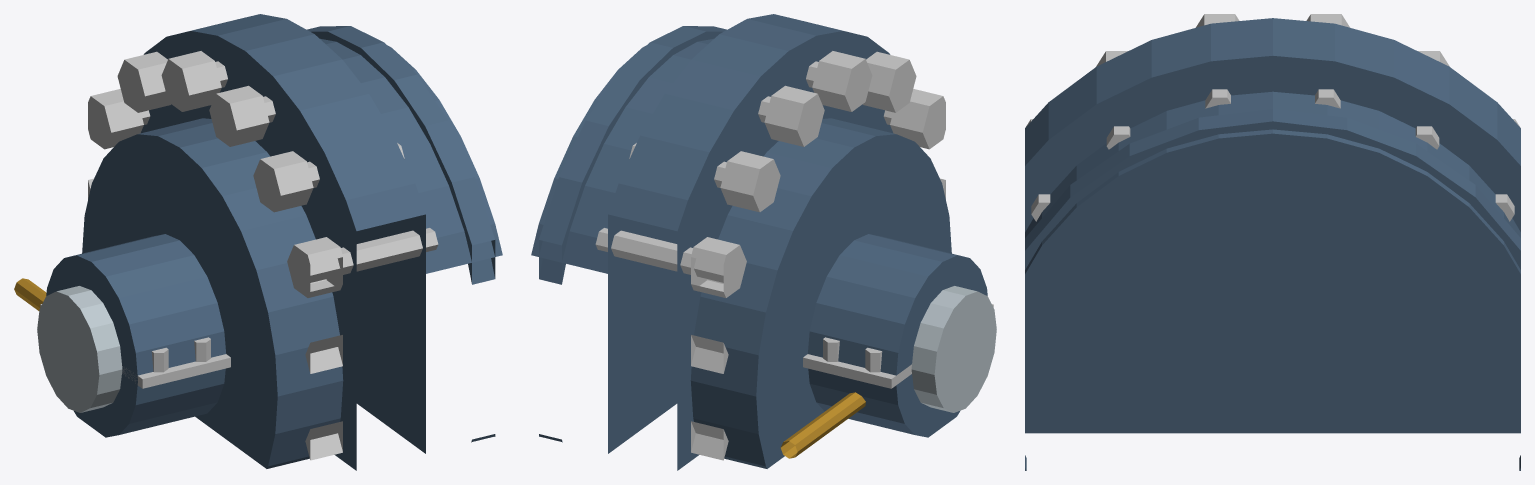
File: cell_36.obj
3 views of the same model, side by side, from view 1: azimuth 30°, elevation 25°; view 2: azimuth 150°, elevation 25°; view 3: azimuth 270°, elevation 25° (orthographic). The views are drawn at different scales.
Size of the model in its own units: 0.84 by 0.84 by 1.
